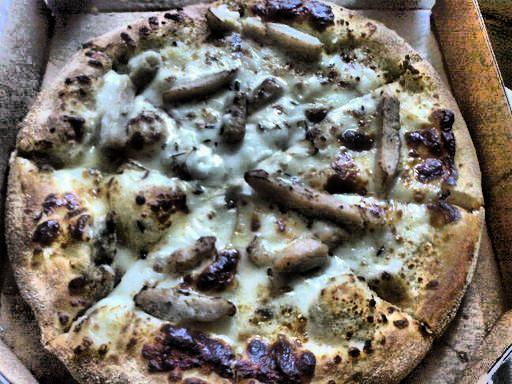pizza: (16, 6, 477, 384)
